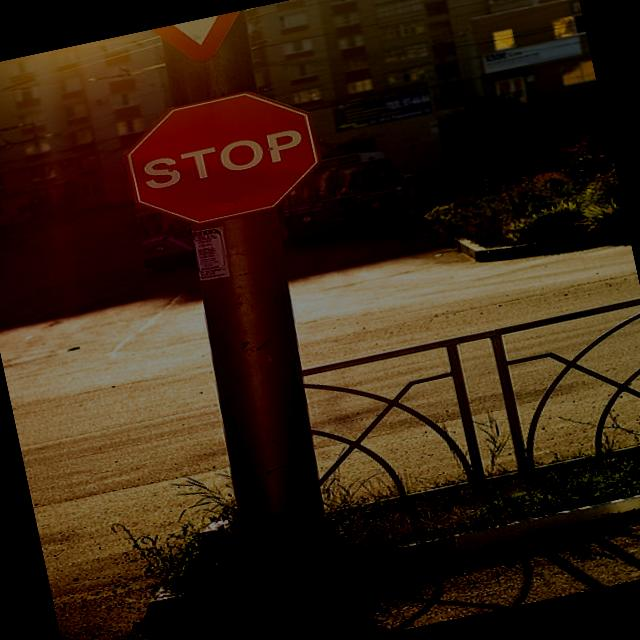Vehicle: (264, 142, 402, 252), (130, 195, 198, 273)
